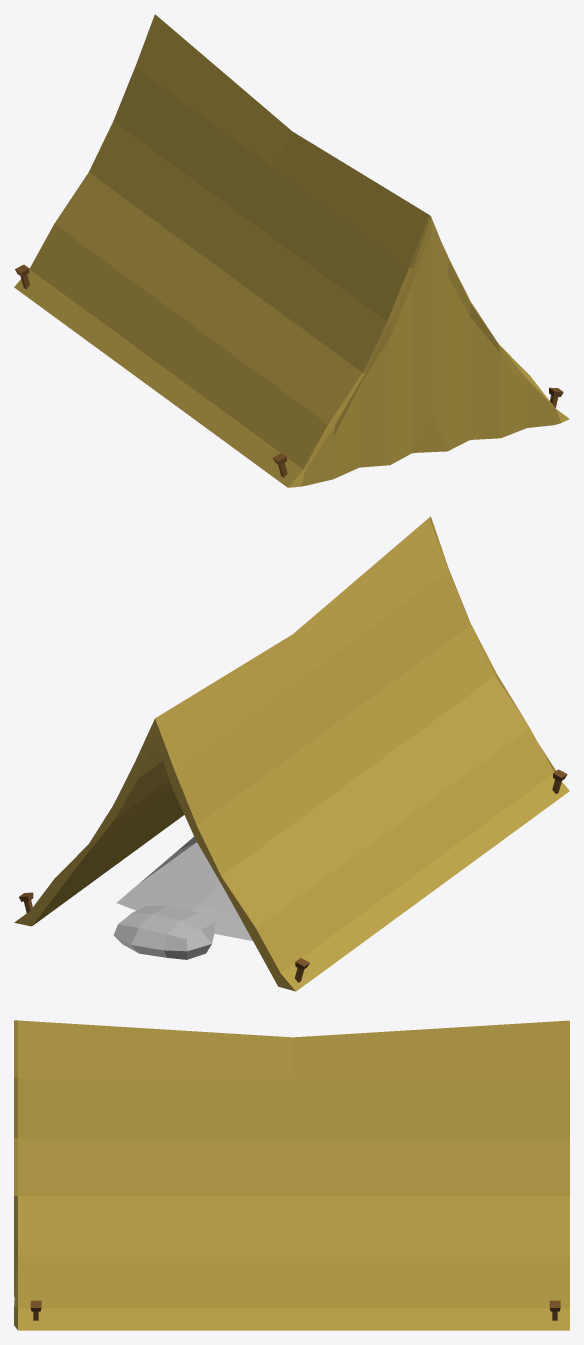
Rendered from Tent.glb.
3 renders of one model, top to bottom at view 1: azimuth 30°, elevation 25°; view 2: azimuth 150°, elevation 25°; view 3: azimuth 270°, elevation 25°, orthographic.
Parts seen in each view (by area): view 1: Bed; view 2: Bed; view 3: Bed.
Part boxes in pixels (x1,y1,x2,y2): Bed: [14, 14, 569, 487]; Bed: [14, 516, 569, 991]; Bed: [14, 1020, 569, 1330].
Bounding box in the file's own units: 1.73 × 1.45 × 2.88.
